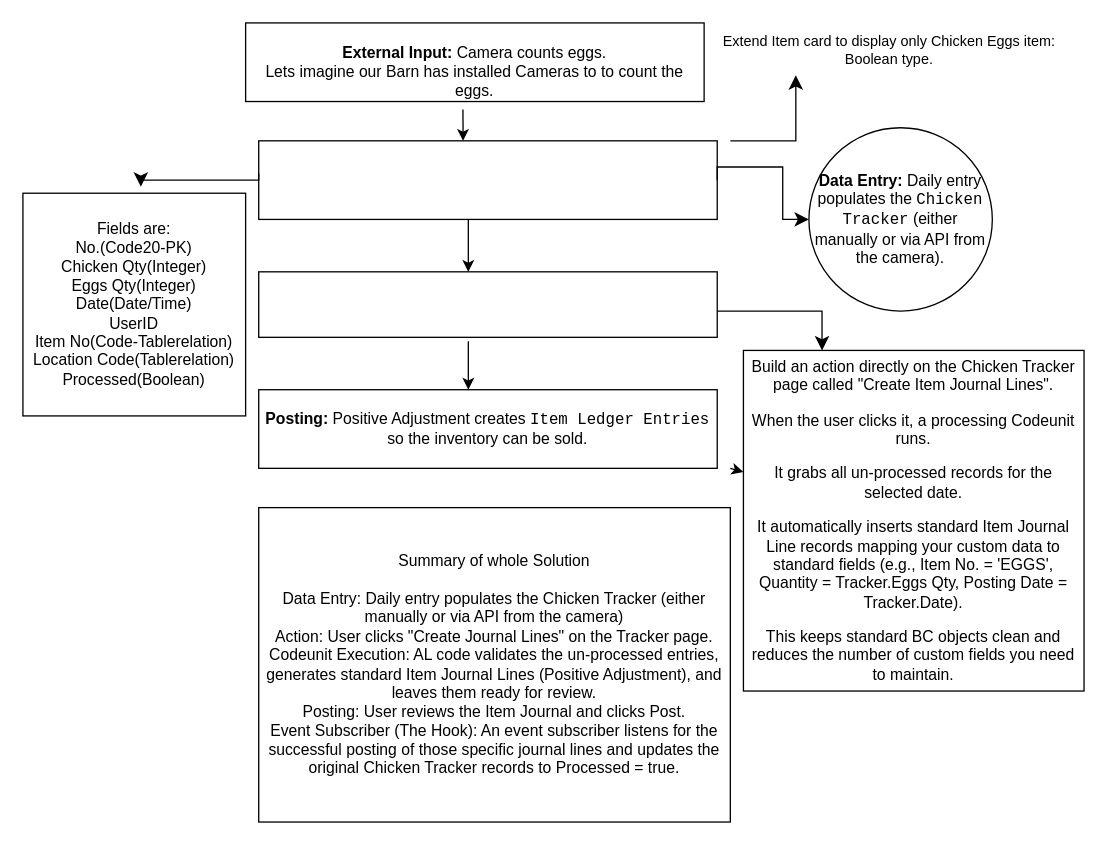
This 1107x845 diagram has some shape labels left out. Each missing label, with the box of its shape:
Processing: Data is moved to standard journals ( Item Journal ).: (257, 271, 717, 337)
Staging Area: Data lands in a custom table ( Chicken Tracker ).: (257, 140, 717, 219)
